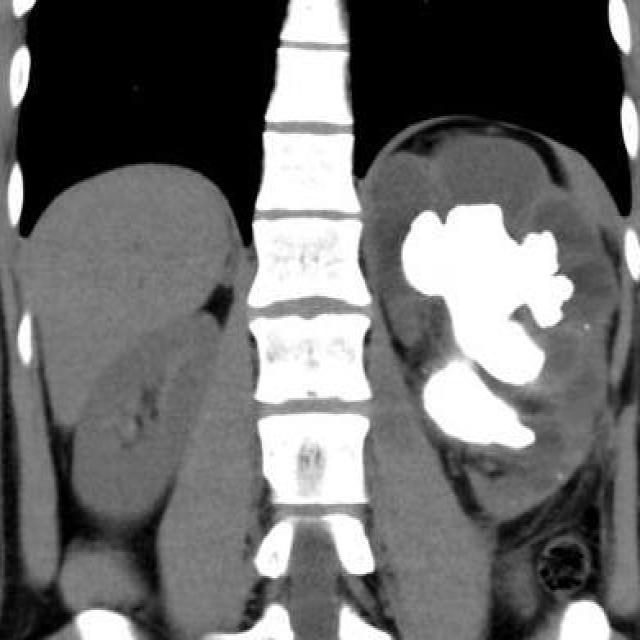Tas_Var: (397, 198, 575, 406), (421, 353, 538, 463), (552, 466, 566, 486), (582, 323, 595, 335)
